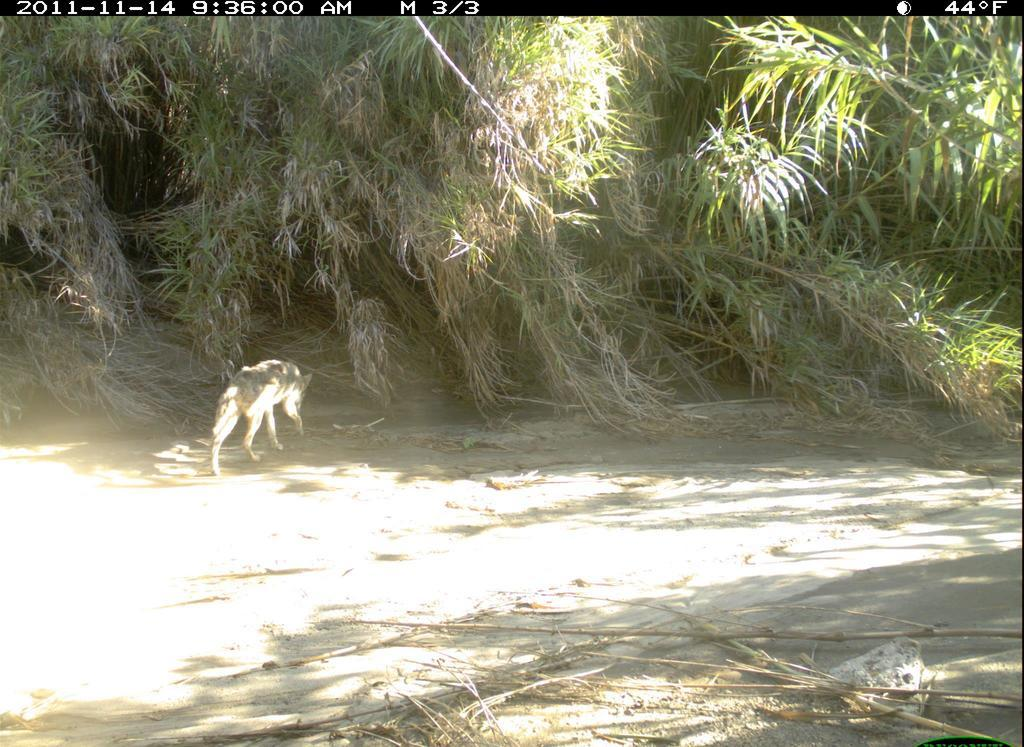coyote: (195, 350, 335, 491)
